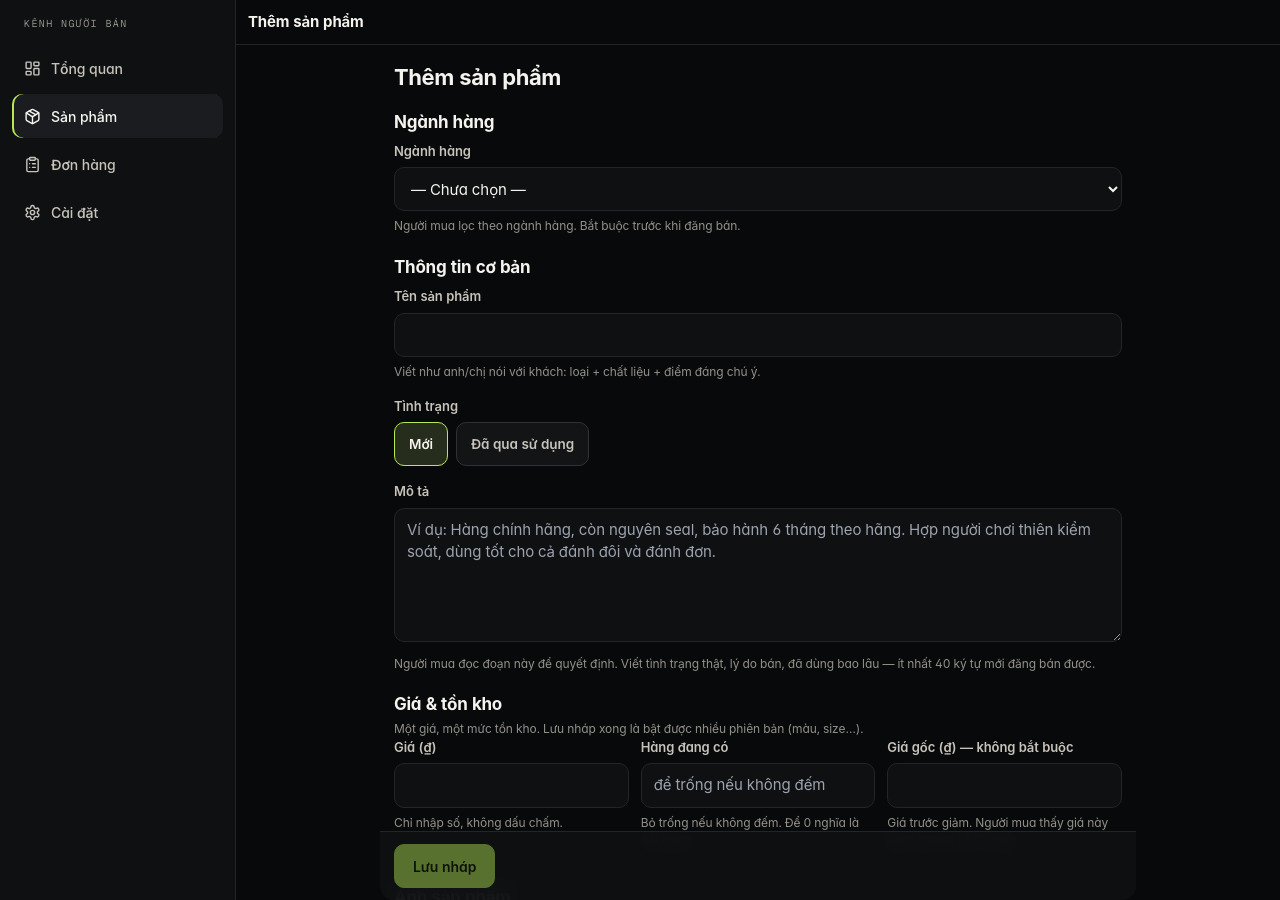
giá gốc trên form tạo mới › giá gốc bằng/thấp hơn giá bán → không gọi RPC, báo lỗi ngay ô
The image size is (1280, 900).
Select "Giày" in the dropdown labelled "Ngành hàng" at coordinates (758, 190), box [394, 168, 1122, 212]
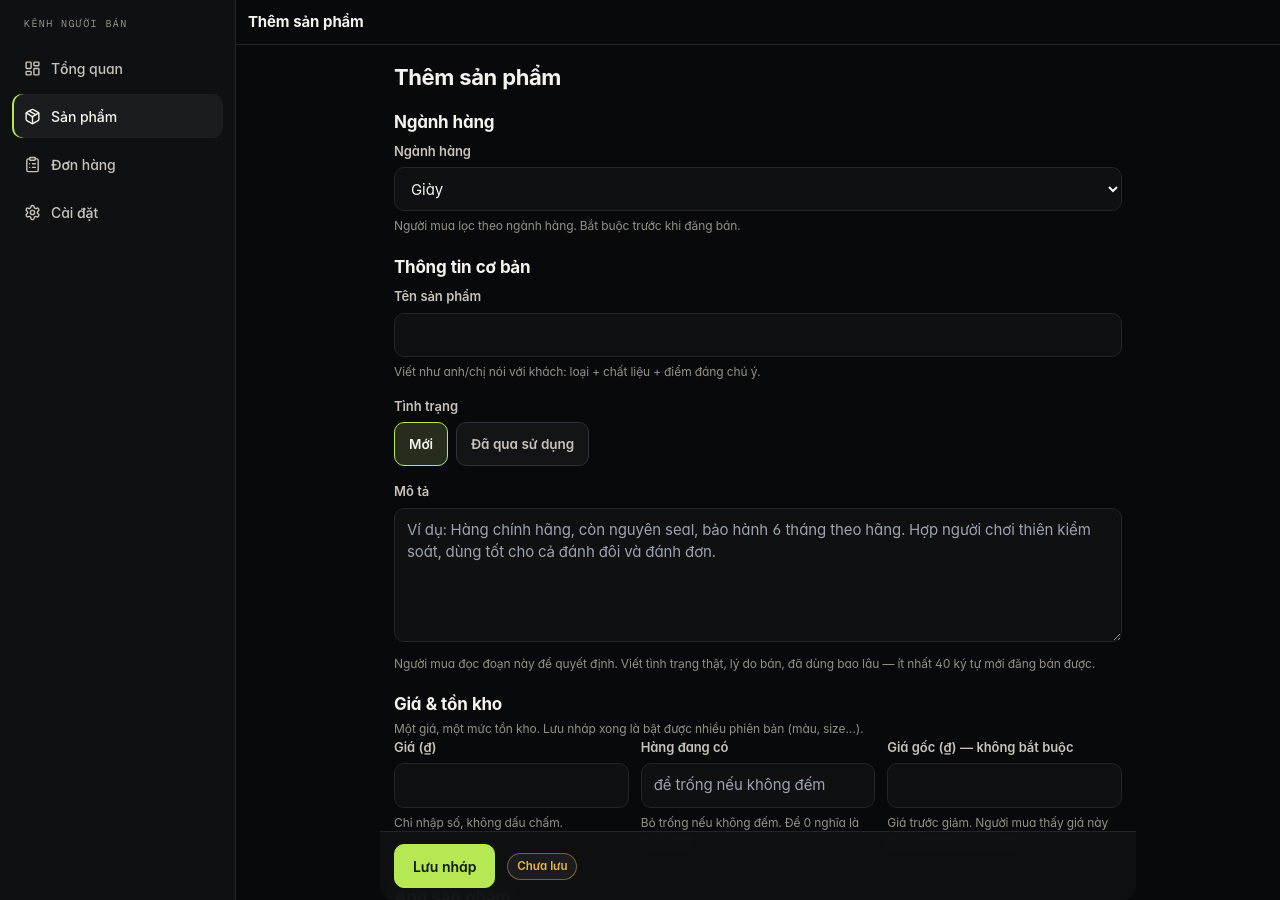
Type "Giày Court Pro" into the field labelled "Tên sản phẩm" at coordinates (758, 335), box [394, 313, 1122, 357]
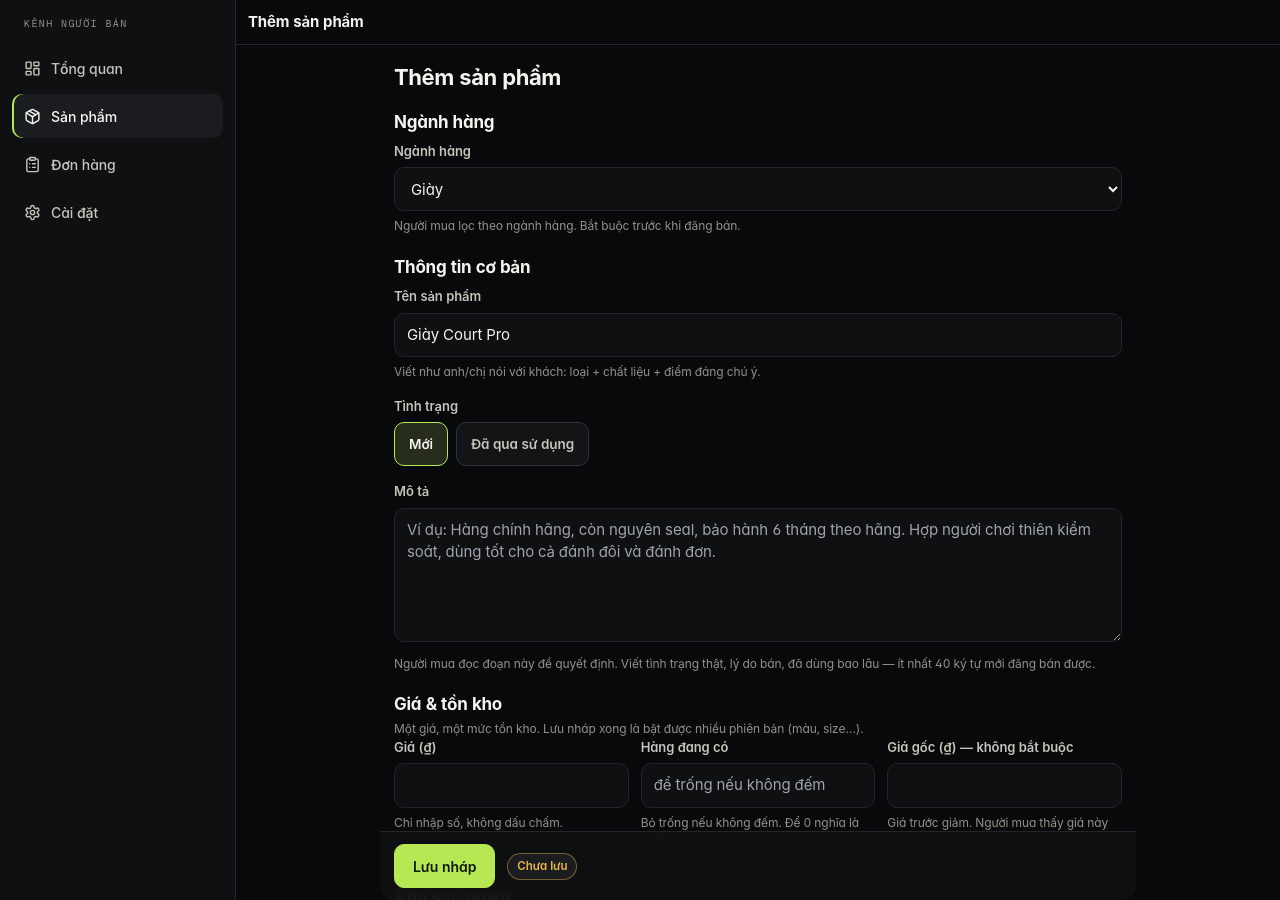
Type "1000000" into the field labelled "Giá (₫)" at coordinates (511, 786), box [394, 763, 629, 808]
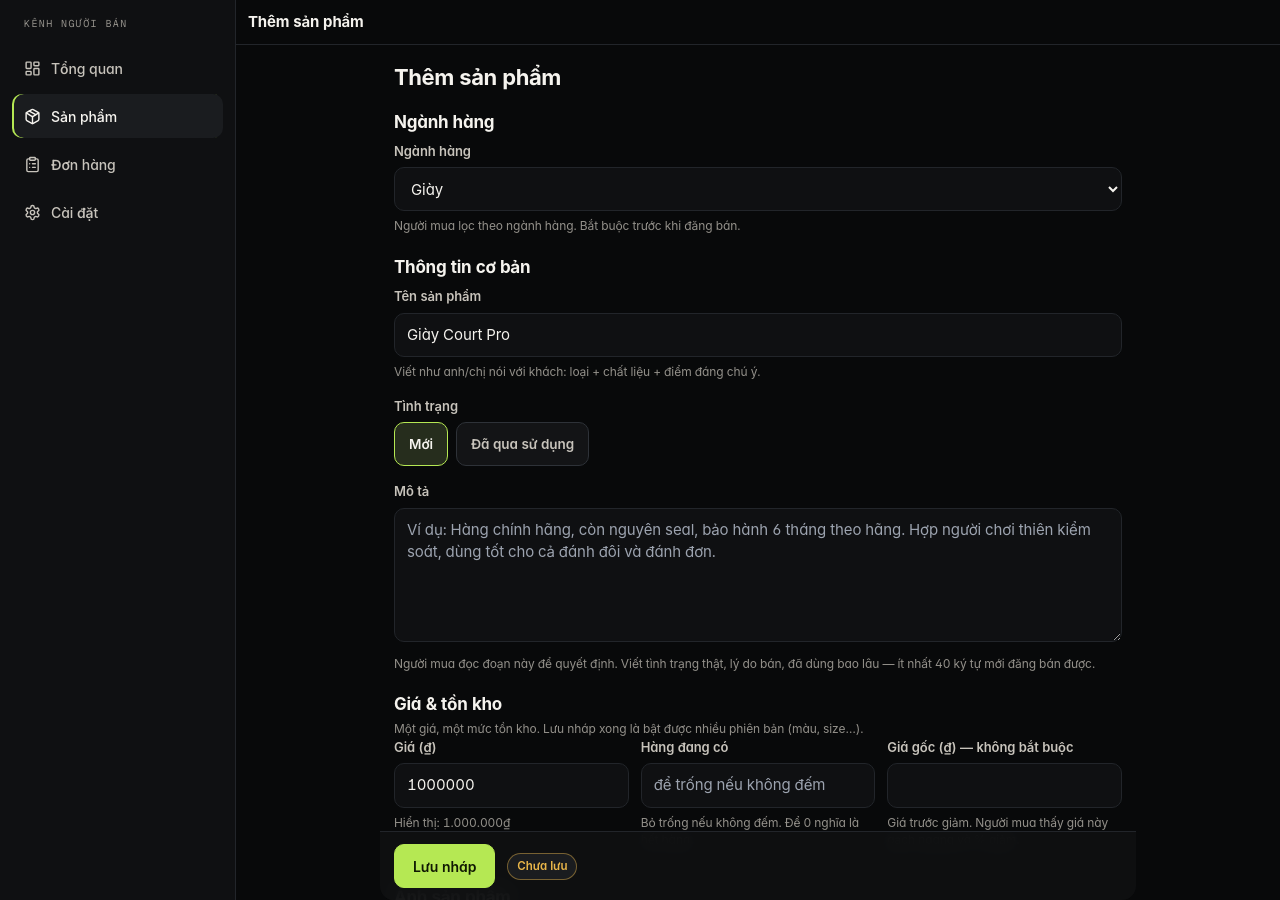
Type "1000000" into the field labelled "Giá gốc (₫) — không bắt buộc" at coordinates (1005, 786), box [887, 763, 1122, 808]
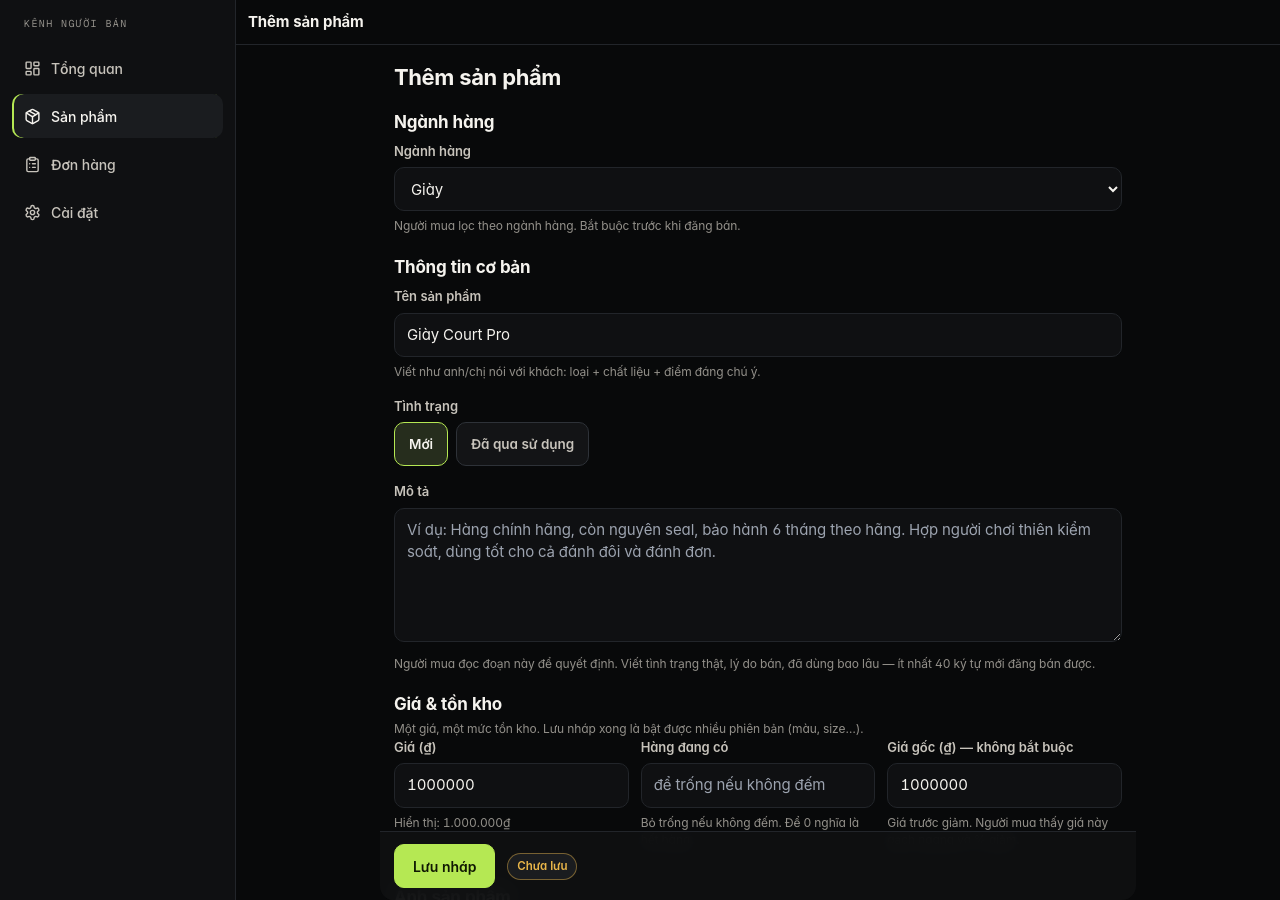
Click the button "Lưu nháp" at coordinates (445, 866), box [394, 844, 495, 888]
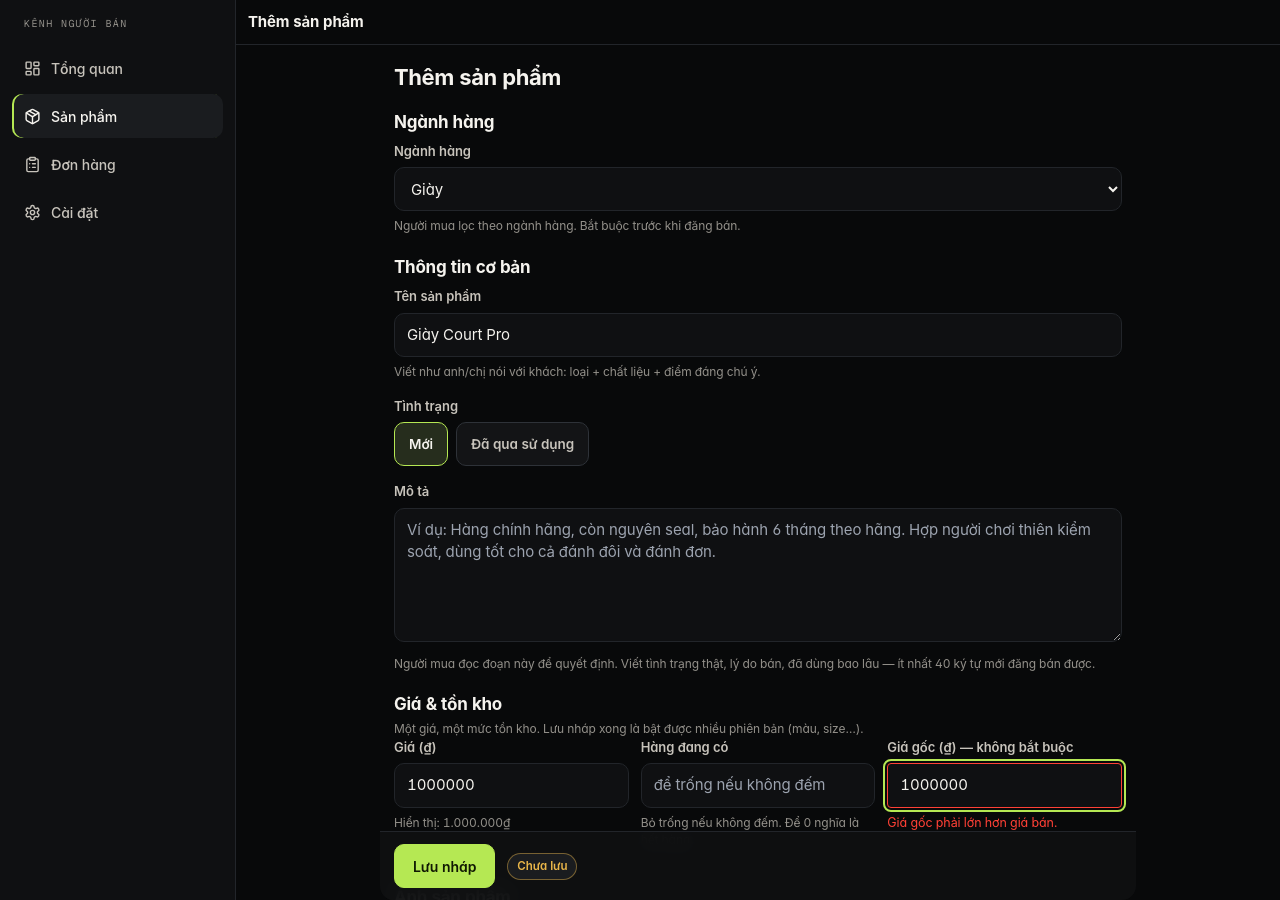
Result: the text "Giá gốc phải lớn hơn giá bán." is shown at [887, 815, 1057, 830]
